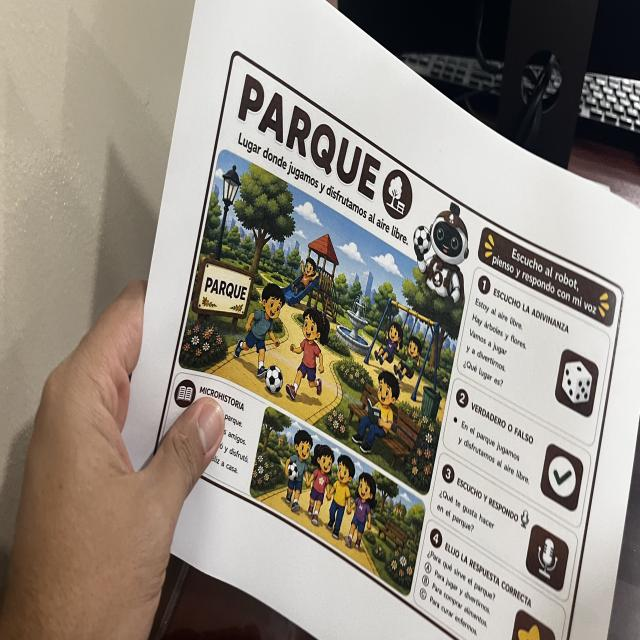parque: (146, 45, 626, 640)
